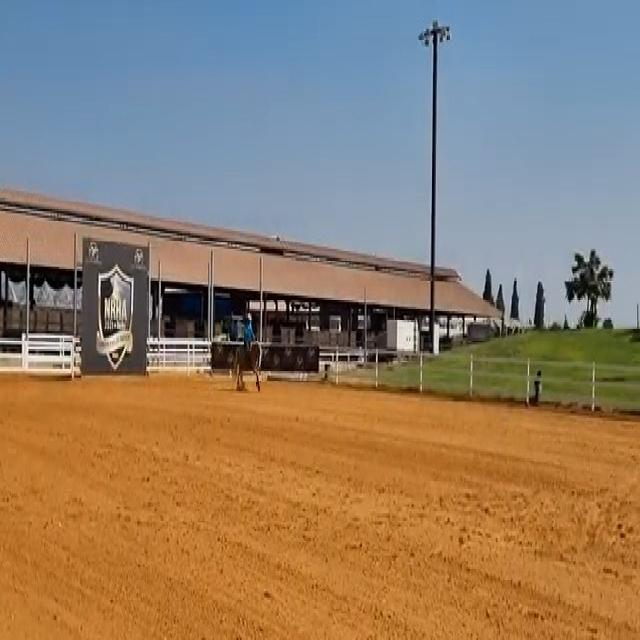horse: (227, 336, 264, 394)
